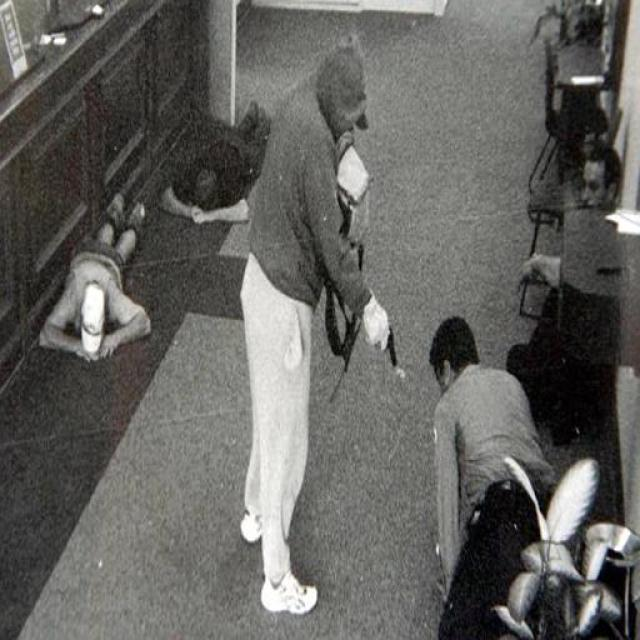pistol: (372, 286, 411, 388)
